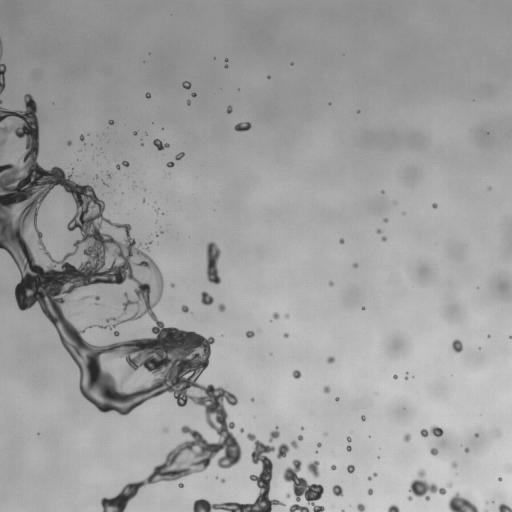droplet: (193, 433, 289, 511), (283, 459, 324, 511), (408, 469, 446, 500), (448, 493, 479, 511), (307, 460, 319, 477), (153, 139, 169, 150), (201, 291, 213, 305), (452, 339, 463, 353), (234, 122, 251, 131), (269, 427, 279, 442), (91, 294, 103, 306), (332, 485, 342, 496), (387, 504, 400, 511), (498, 504, 511, 511), (292, 369, 301, 378), (175, 152, 184, 160), (182, 81, 190, 89), (357, 503, 365, 511), (245, 330, 254, 337), (347, 464, 354, 473), (181, 305, 188, 313), (403, 433, 410, 441), (430, 447, 437, 455), (218, 304, 225, 311), (272, 312, 279, 319), (327, 356, 334, 363), (323, 386, 330, 393), (167, 161, 174, 167), (506, 464, 511, 472), (494, 431, 500, 437), (451, 461, 457, 467), (227, 106, 232, 113), (0, 139, 5, 146), (145, 92, 150, 98), (346, 445, 351, 451), (367, 488, 372, 494), (432, 203, 437, 208), (381, 236, 386, 241), (339, 238, 344, 243), (464, 447, 469, 452), (80, 135, 84, 141), (191, 93, 196, 97), (108, 120, 113, 124), (155, 208, 159, 213), (383, 218, 388, 222), (376, 229, 381, 233), (329, 281, 333, 286), (114, 331, 118, 336), (283, 333, 288, 337), (393, 374, 397, 379), (361, 415, 365, 420), (474, 433, 479, 437), (347, 437, 351, 442), (317, 442, 321, 447), (331, 465, 336, 469), (220, 478, 225, 482), (178, 483, 183, 487), (447, 483, 452, 487), (286, 493, 290, 498), (133, 131, 137, 135), (67, 141, 71, 145), (107, 174, 111, 178), (353, 263, 357, 267), (170, 283, 174, 287), (285, 314, 289, 318), (250, 397, 254, 401), (335, 397, 339, 401), (498, 477, 502, 481), (187, 100, 190, 104), (164, 428, 167, 432), (240, 428, 243, 432), (373, 473, 377, 476), (381, 190, 384, 193), (368, 477, 371, 480), (225, 64, 227, 68), (484, 509, 488, 511), (225, 58, 227, 61), (143, 198, 145, 201), (362, 307, 364, 310), (488, 187, 490, 189), (324, 433, 326, 435)
ligament: (0, 95, 241, 511), (206, 242, 220, 284), (420, 425, 443, 437), (0, 63, 6, 93), (291, 435, 303, 448), (116, 161, 129, 169), (79, 296, 88, 301), (0, 39, 2, 59), (405, 373, 408, 379), (147, 244, 149, 250), (341, 510, 344, 511)
